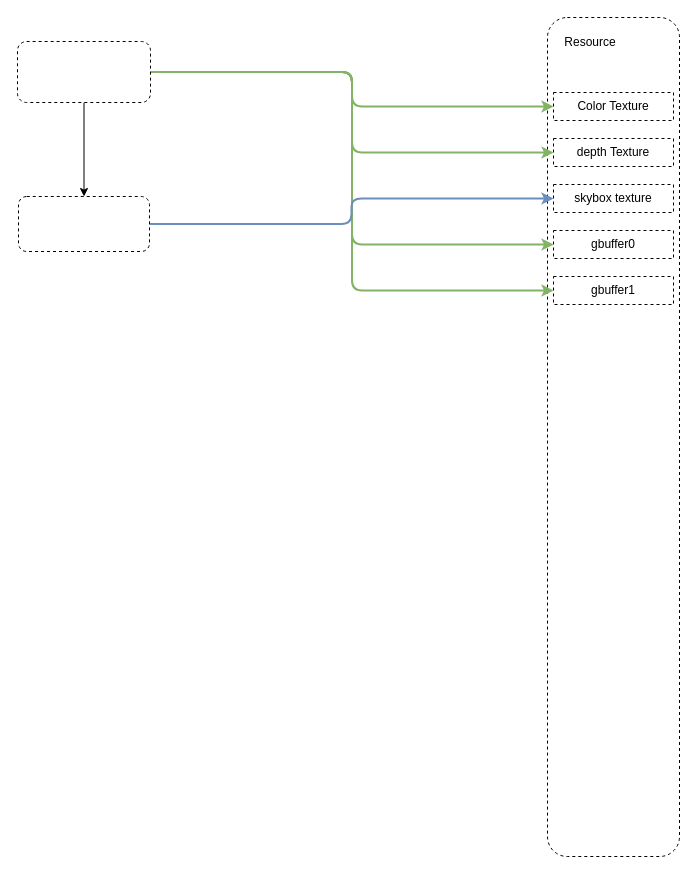
The diagram is 697 pixels wide and 874 high, and some of its shapes have lost their labels. Each missing label, with the box of its shape:
PBR pipeline: (16, 40, 150, 102)
Skybox: (18, 196, 150, 252)
